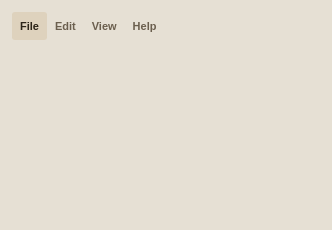
Test: MenuBar Recent Designs › shows Open Recent as a disabled File menu item when there are no recent designs
Click the button "File" at (30, 26), box [12,12,47,40]
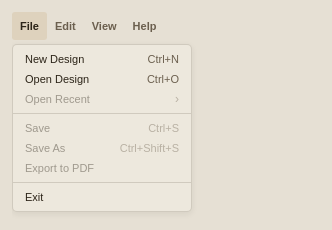
Result: the menu item "Open Recent ›" is disabled at [13,89,191,109]
